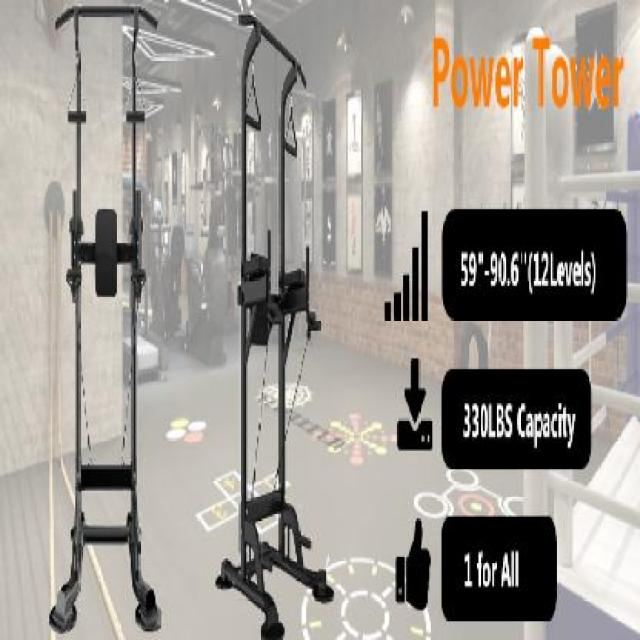chinning dipping: (217, 14, 335, 635), (49, 2, 163, 629)
